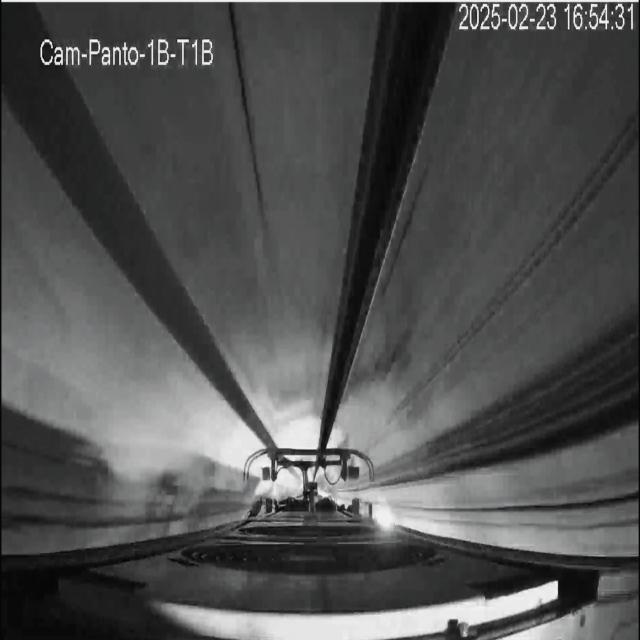Camera Stamp: (36, 30, 218, 71)
Date Stamp: (459, 3, 635, 33)
No - Spark: (239, 406, 353, 517)
